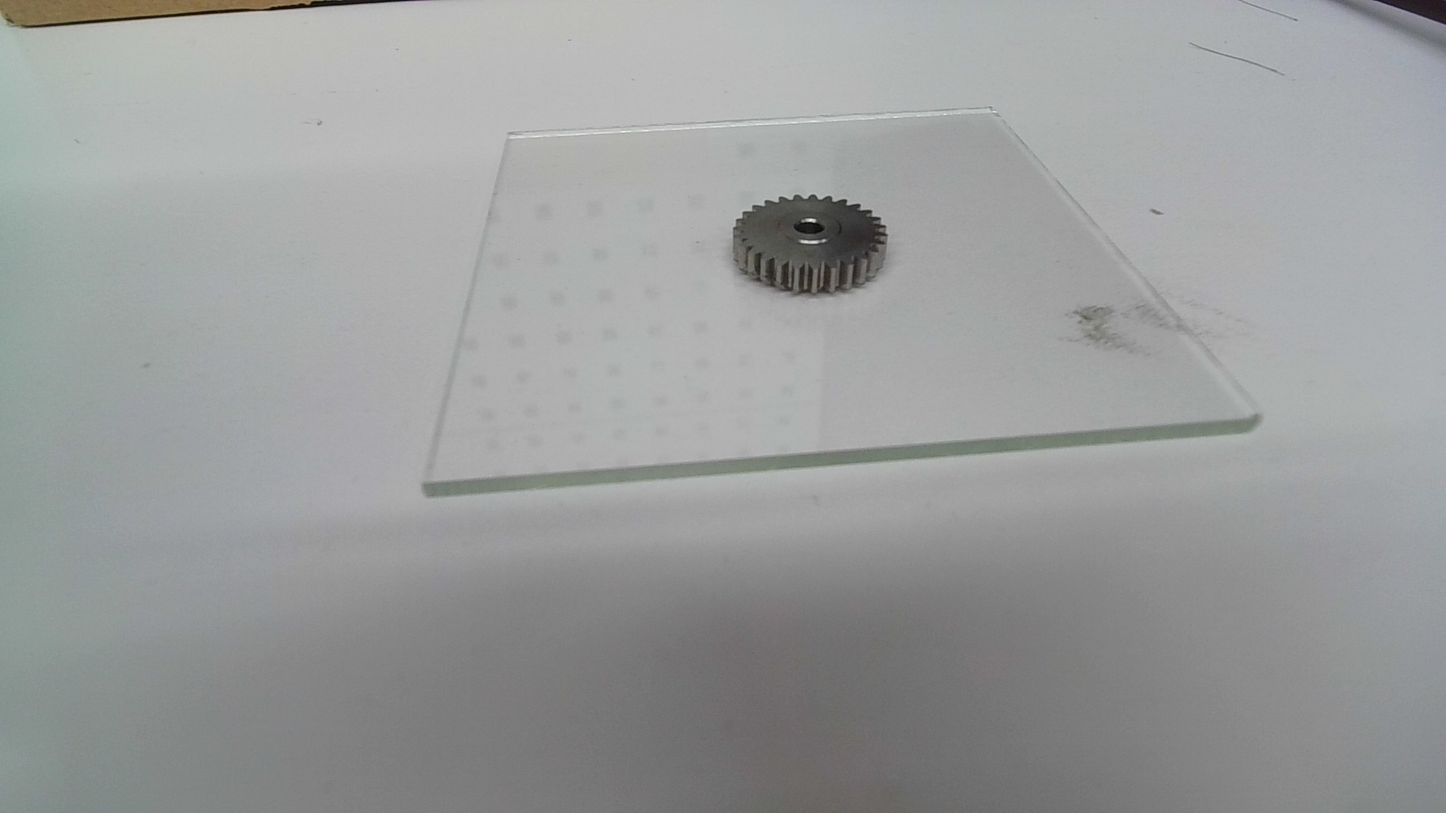gear: (730, 194, 890, 296)
